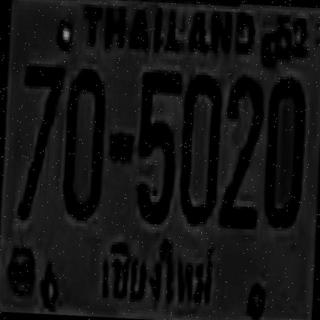N00: (60, 65, 106, 219), (261, 73, 306, 226), (177, 71, 221, 222)
N02: (218, 74, 264, 227)
N05: (134, 66, 180, 222)
N07: (16, 60, 64, 219), (18, 61, 63, 192)
P11: (94, 230, 224, 320)
